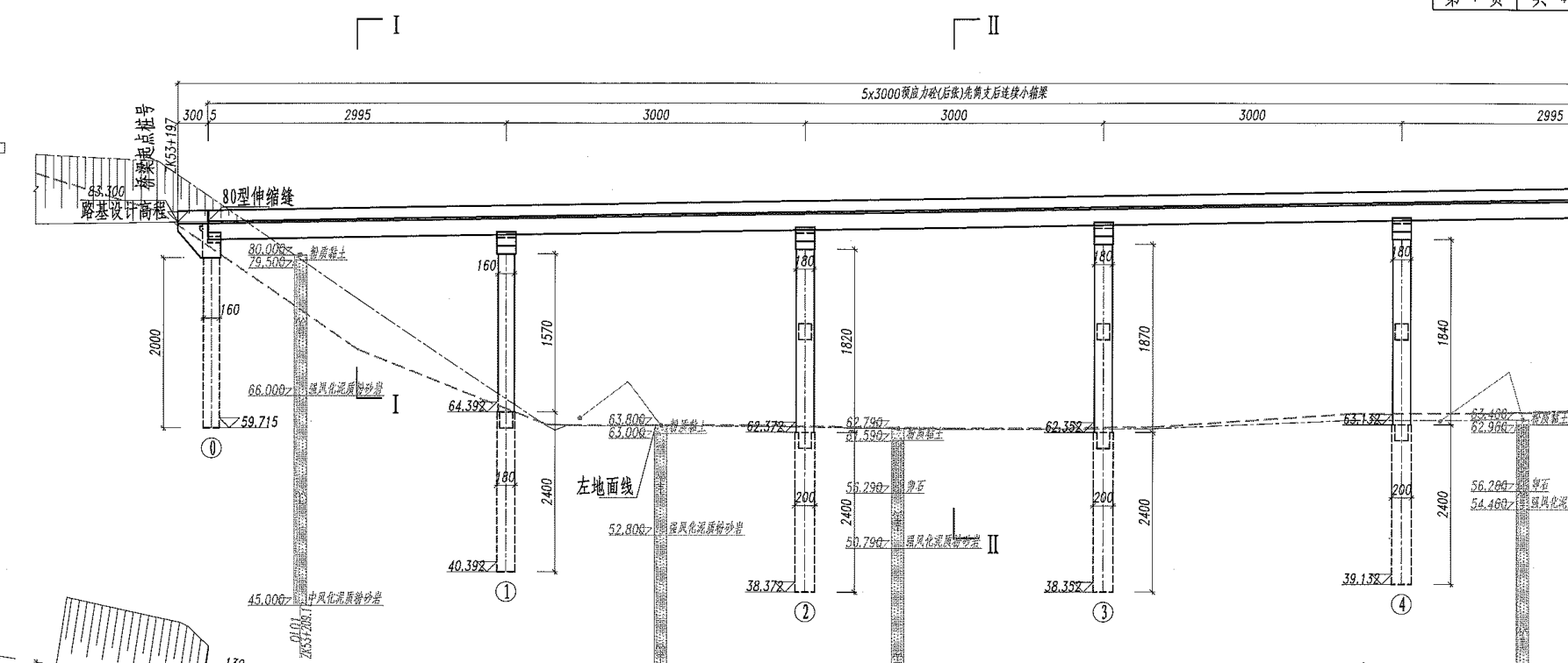B: (201, 86, 1568, 111)
C: (435, 223, 544, 622), (1334, 217, 1435, 624), (1035, 216, 1134, 631), (742, 223, 823, 632), (1332, 209, 1435, 488), (1037, 211, 1133, 488), (437, 221, 534, 477)
